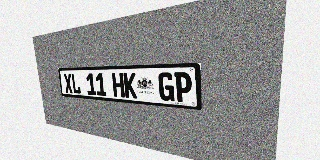1: (85, 73, 97, 95), (95, 73, 106, 96)
G: (158, 72, 175, 101)
H: (112, 73, 125, 98)
K: (123, 73, 137, 99)
L: (71, 73, 81, 94)
P: (174, 72, 192, 103)
X: (63, 73, 73, 93)
